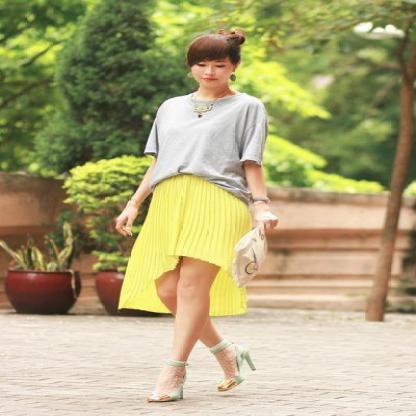bag: (227, 230, 265, 288)
shirt: (140, 88, 270, 207)
shoe: (148, 334, 254, 402)
skirt: (117, 176, 257, 318)
